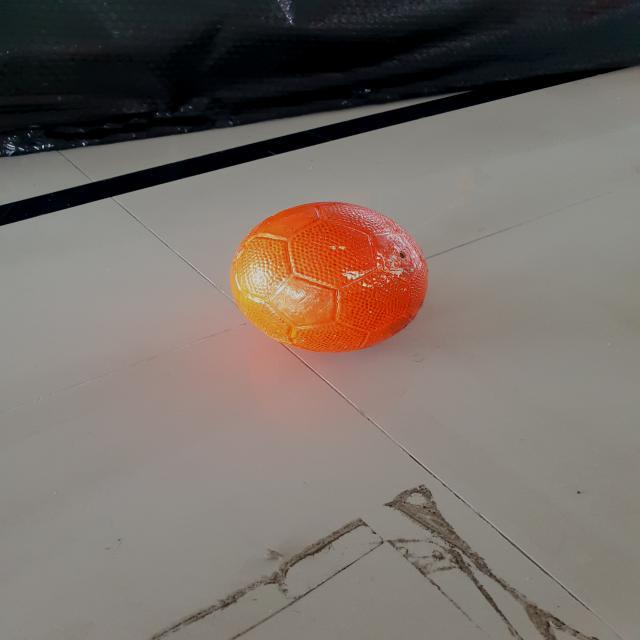bola: (226, 196, 433, 362)
